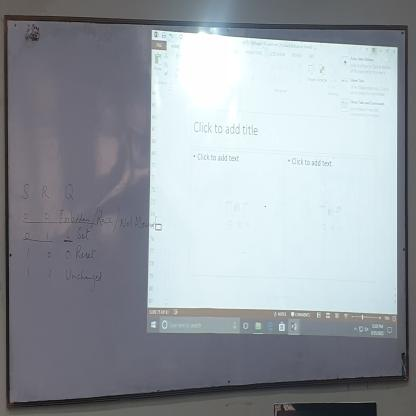Handwritten text: (23, 181, 77, 208), (65, 266, 105, 296), (59, 207, 90, 228), (121, 215, 159, 232), (74, 244, 97, 264), (97, 210, 115, 232), (78, 229, 89, 242)
Whiteboard: (5, 14, 407, 405)
